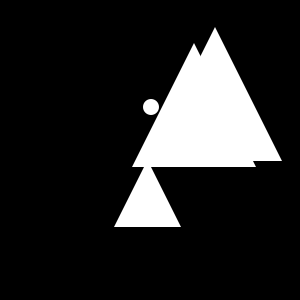circle: (202, 96, 234, 128)
rectangle: (143, 99, 159, 115)
triangle: (148, 27, 282, 161), (132, 43, 256, 167), (114, 160, 181, 227)
